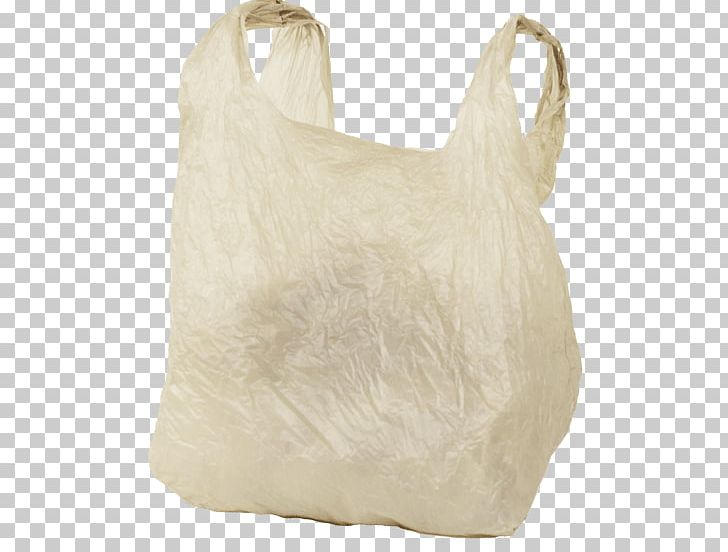plastic_bagwdw: (90, 3, 637, 552)
